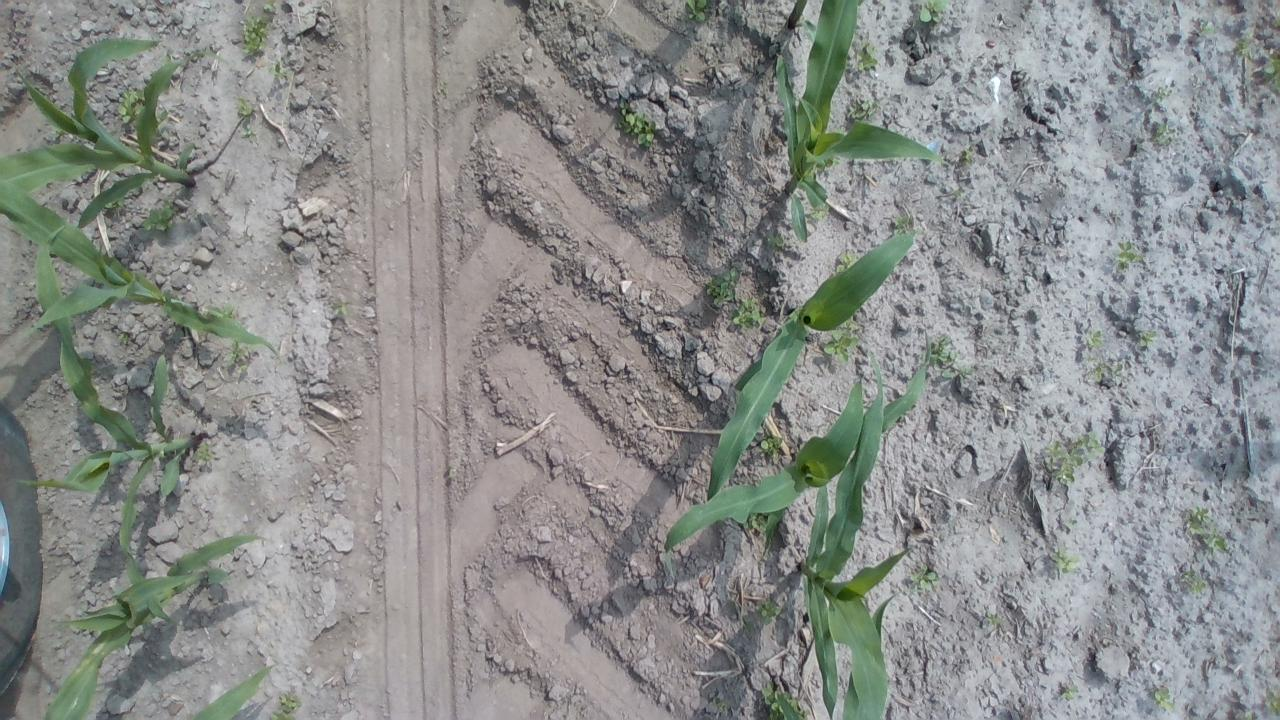Maize: (664, 328, 933, 579), (706, 234, 914, 502), (18, 340, 208, 626), (0, 178, 282, 359), (0, 37, 230, 230), (774, 1, 954, 243), (41, 533, 272, 720), (798, 350, 914, 720), (841, 589, 922, 720), (192, 663, 276, 720), (776, 687, 800, 719), (786, 1, 809, 29)
Weeds: (1042, 428, 1106, 485), (1184, 503, 1232, 563), (931, 333, 976, 378), (762, 679, 810, 720), (614, 112, 658, 148), (704, 268, 739, 310), (116, 82, 146, 124), (822, 329, 860, 362), (732, 295, 766, 331), (223, 340, 258, 374), (240, 16, 269, 57), (1080, 354, 1124, 381), (141, 198, 177, 231), (1048, 543, 1083, 575), (269, 688, 303, 720), (906, 563, 942, 593), (1114, 239, 1144, 271), (1262, 47, 1280, 92), (854, 38, 879, 70), (1180, 570, 1208, 598), (847, 96, 881, 118), (919, 0, 950, 24), (754, 600, 780, 624), (684, 0, 708, 23), (1152, 121, 1176, 144), (1236, 33, 1256, 60), (956, 146, 980, 168), (834, 250, 858, 271), (759, 438, 784, 458), (764, 233, 786, 255), (1154, 82, 1174, 106), (1136, 328, 1160, 348), (1154, 684, 1174, 708), (197, 440, 215, 466), (891, 210, 910, 234), (1196, 16, 1217, 36), (1060, 682, 1080, 702), (1084, 326, 1103, 346), (1265, 690, 1280, 715), (242, 122, 259, 144), (237, 94, 253, 117), (749, 513, 768, 532), (270, 60, 288, 80), (810, 204, 829, 222), (330, 298, 349, 316), (210, 304, 234, 318), (712, 694, 726, 712), (617, 96, 629, 116), (986, 610, 1000, 627), (1270, 10, 1280, 30), (678, 62, 692, 76), (951, 185, 965, 199), (438, 79, 450, 94), (742, 619, 755, 632), (1064, 515, 1080, 525), (117, 332, 130, 343), (106, 201, 126, 208), (264, 2, 274, 12), (448, 472, 456, 483), (1244, 710, 1252, 720)
